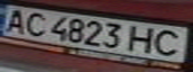2: (81, 17, 106, 48)
3: (103, 19, 127, 51)
4: (45, 13, 72, 42)
8: (66, 16, 87, 45)
A: (0, 7, 30, 34)
C: (148, 27, 190, 57), (18, 10, 51, 37)
H: (124, 24, 163, 54)
